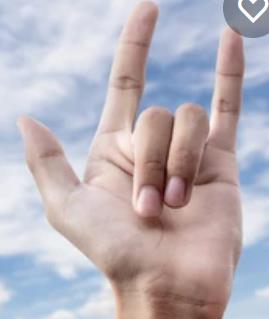back: (14, 1, 252, 295)
